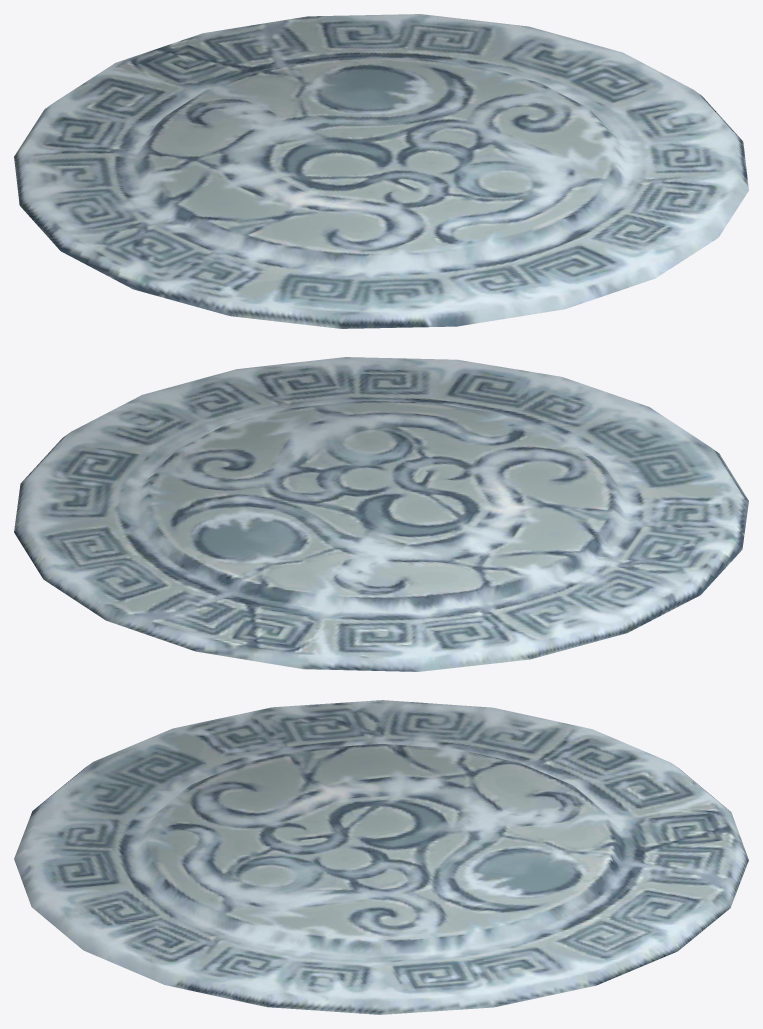
Rendered from h5_xueditai.FBX.
3 renders of one model, top to bottom at view 1: azimuth 30°, elevation 25°; view 2: azimuth 150°, elevation 25°; view 3: azimuth 270°, elevation 25°, orthographic.
Visible parts, largest first — view 1: h5_xueditai; view 2: h5_xueditai; view 3: h5_xueditai.
Part boxes in pixels (box(x1,y1,x2,y2)): h5_xueditai: box(14, 14, 748, 328); h5_xueditai: box(14, 357, 748, 671); h5_xueditai: box(14, 700, 748, 1014).
Size of the model in its own units: 6.05 by 0.1479 by 6.05.
